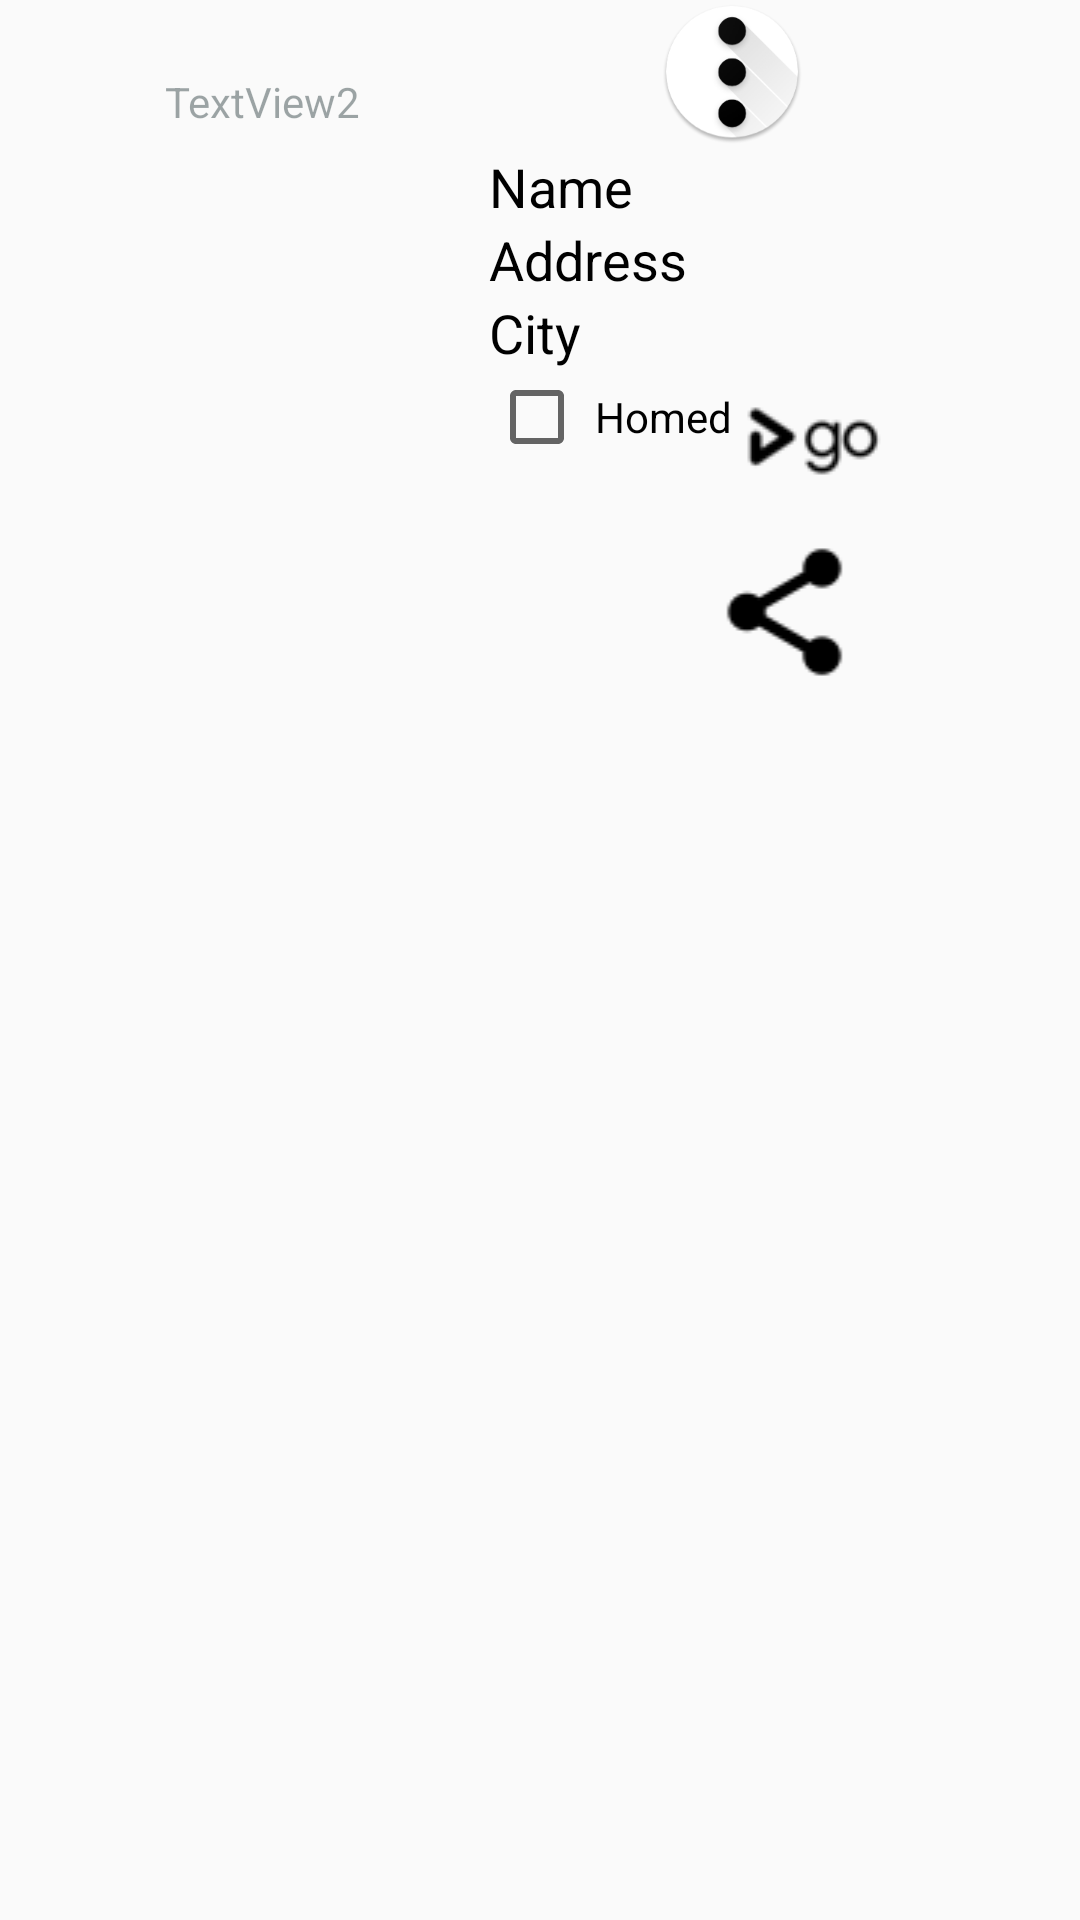

Named icons in this screenshot (1080w x 1920h) and their centers, (x=x, y=y):
more option: (x=732, y=79)
share: (x=784, y=612)
